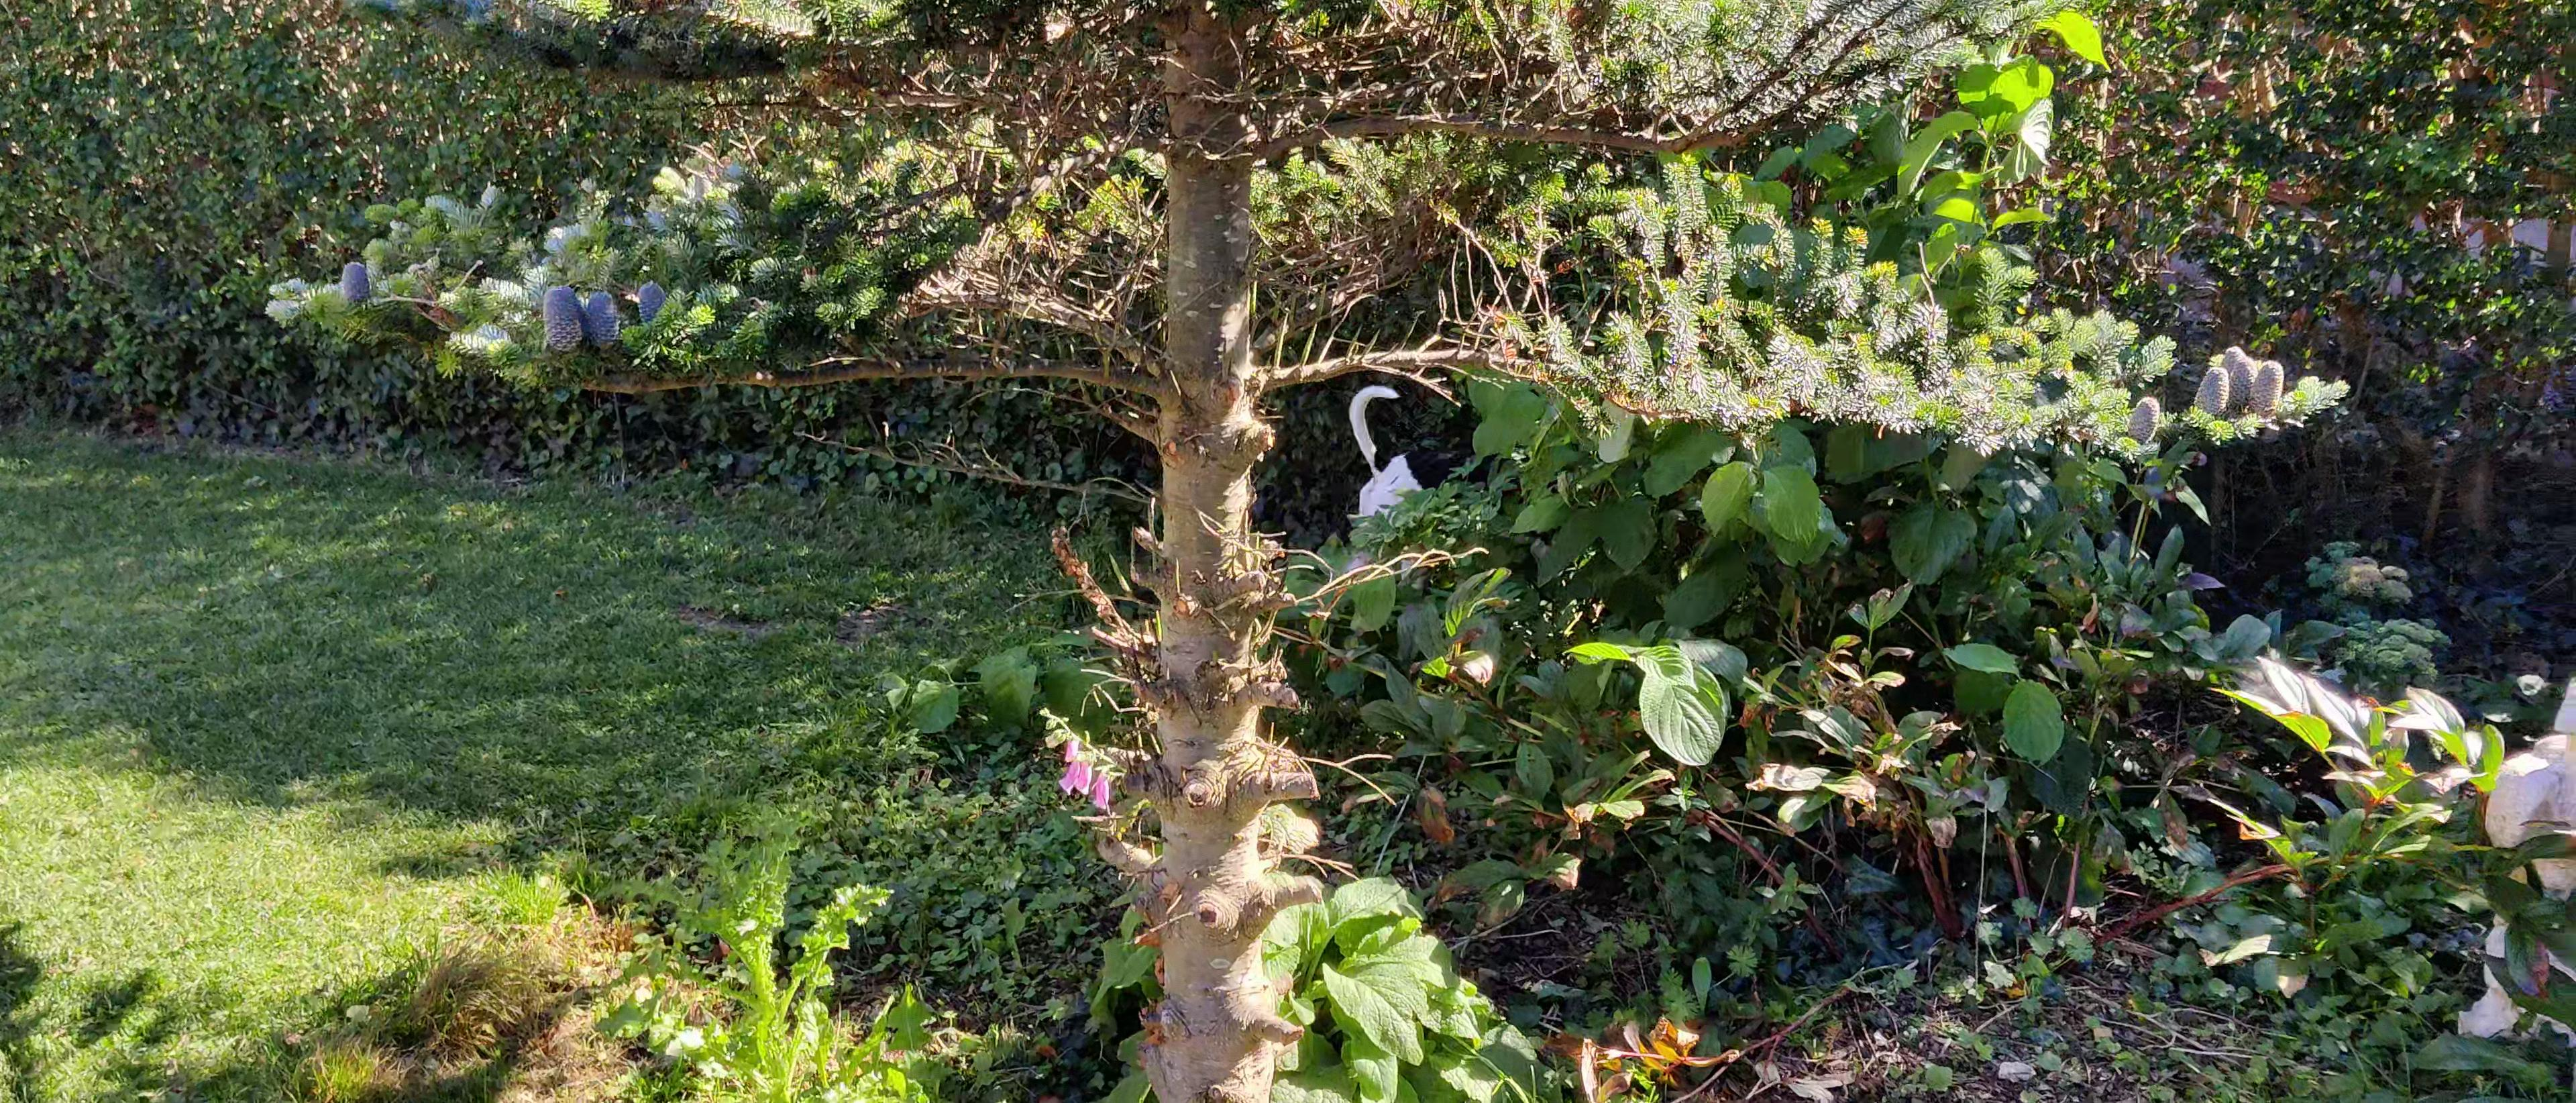Dog: (1342, 376, 1495, 534)
